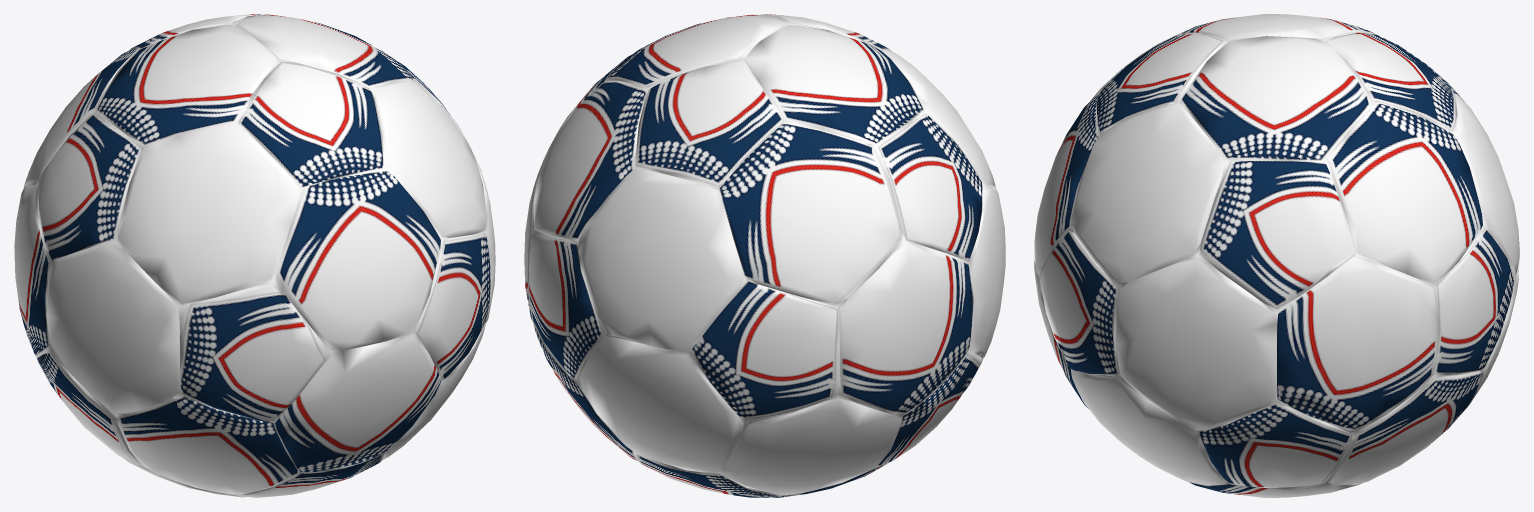
3 views of the same model, side by side, from view 1: azimuth 30°, elevation 25°; view 2: azimuth 150°, elevation 25°; view 3: azimuth 270°, elevation 25° (orthographic).
Parts seen in each view (by area): view 1: Hedra002_01 - Default_0; view 2: Hedra002_01 - Default_0; view 3: Hedra002_01 - Default_0.
Boxes of the visible parts, <box> form: Hedra002_01 - Default_0: <box>14,14,495,497</box>; Hedra002_01 - Default_0: <box>524,14,1005,497</box>; Hedra002_01 - Default_0: <box>1034,14,1519,497</box>.
Bounding box in the file's own units: 29.69 × 29.69 × 29.69.
Materials: 1 (1 with a texture image).
